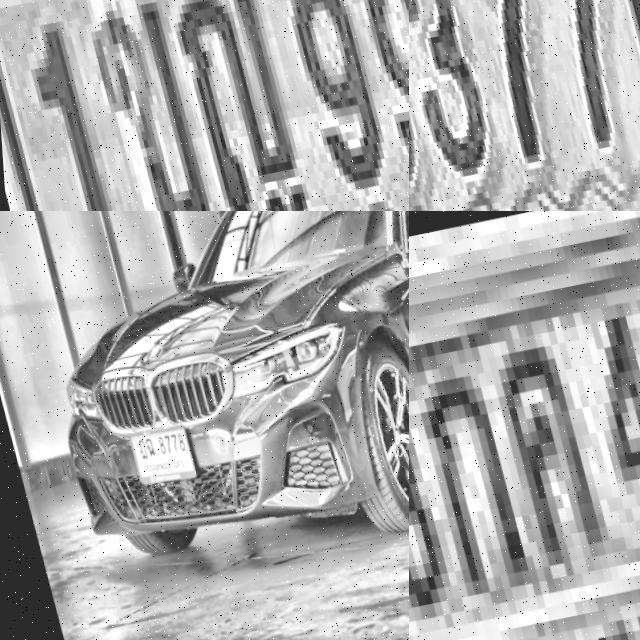license-plate: (409, 211, 640, 640), (0, 0, 409, 211), (409, 0, 640, 211), (120, 420, 192, 490)
